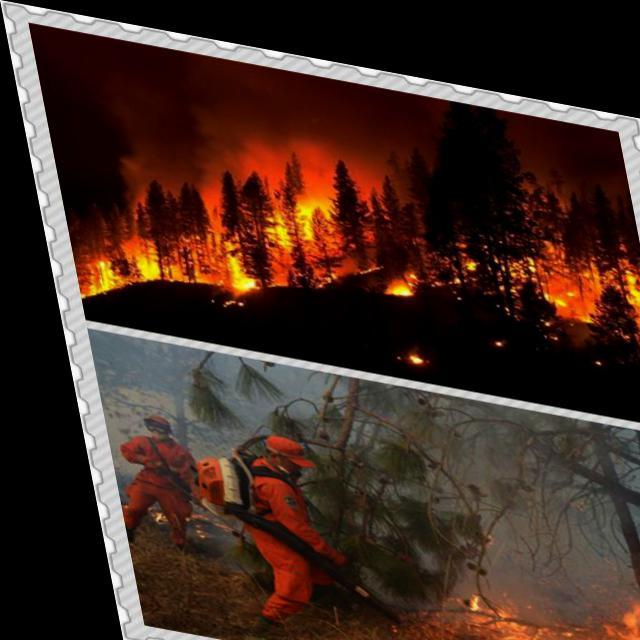Fire: (49, 105, 639, 381), (436, 553, 639, 639)
